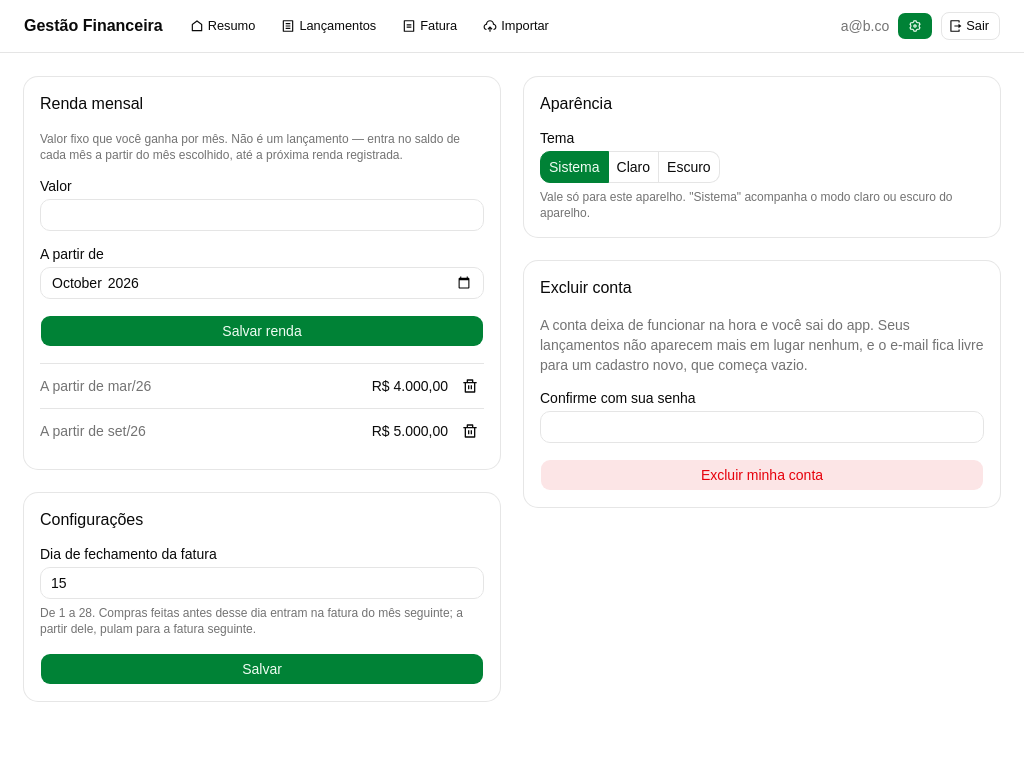
ConfigScreen › mostra o erro quando o servidor recusa a configuração
The width and height of the screenshot is (1024, 768).
What coordinates should you click on to do the following:
click the button "Salvar"
I would click on:
 (262, 669)
Its box is [40,653,484,685].
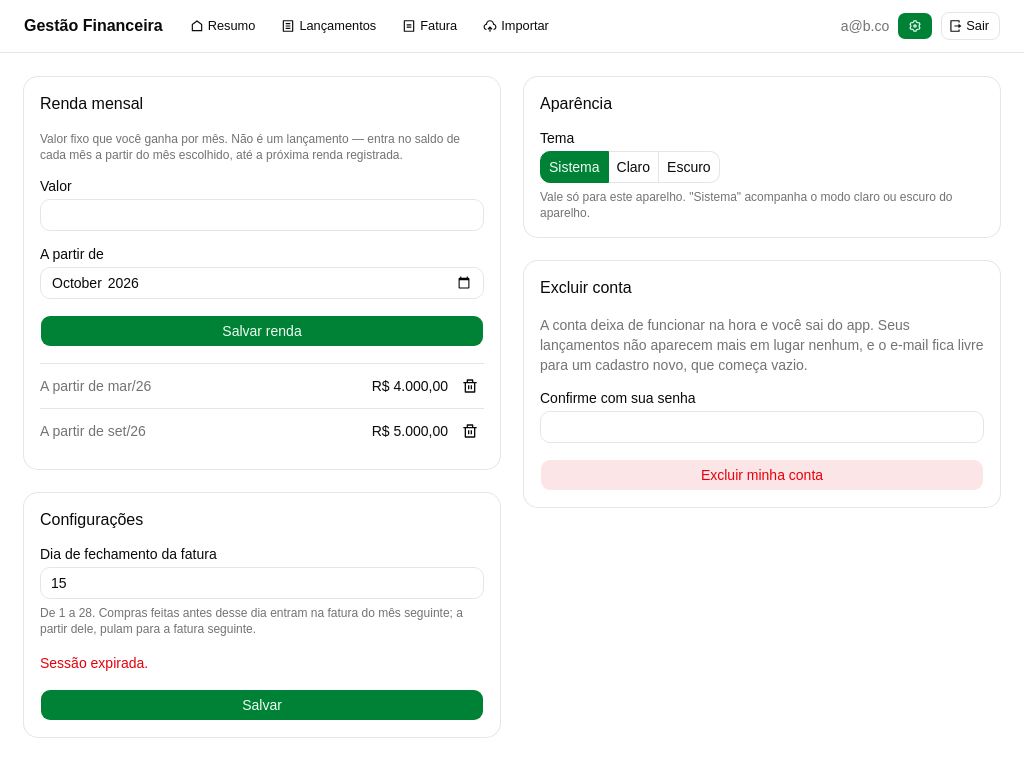
Check: the text "Sessão expirada." is shown, box [40,655,148,671]
